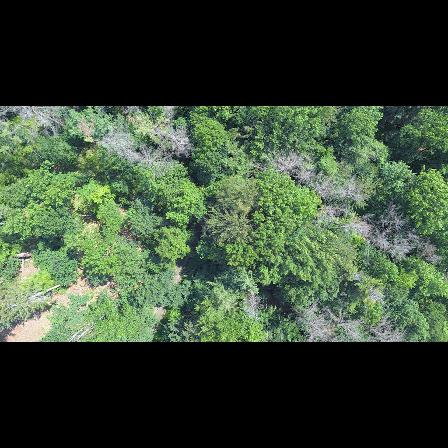Dead: (2, 107, 72, 133), (373, 207, 405, 253), (360, 315, 408, 342), (98, 131, 141, 160), (395, 238, 440, 265), (289, 299, 320, 334), (326, 304, 357, 339), (162, 124, 193, 153), (262, 153, 298, 177), (341, 217, 381, 237), (242, 287, 265, 320), (292, 164, 320, 187), (139, 149, 164, 174), (315, 184, 346, 203)
